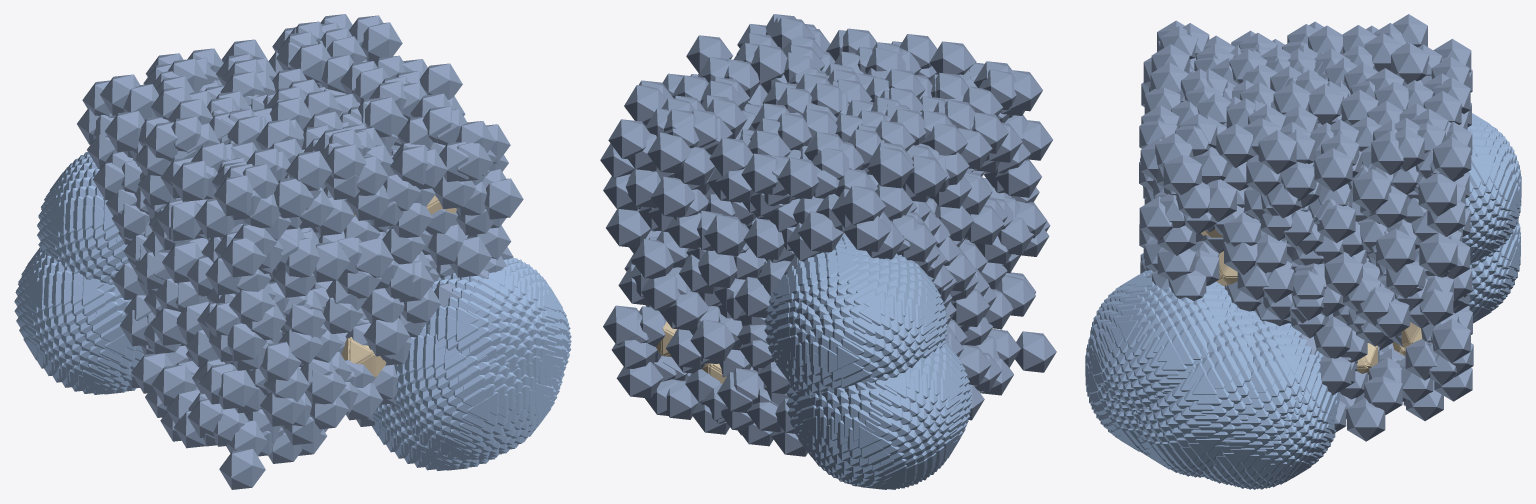
File: Cosmic_Web_Pointcloud.glb
3 renders of one model, left to right at view 1: azimuth 30°, elevation 25°; view 2: azimuth 150°, elevation 25°; view 3: azimuth 270°, elevation 25°, orthographic. The views are drawn at different scales.
Visible parts, largest first — view 1: Star_1094, Star_242, Star_543, Star_1362, Star_864, Star_905, Star_654, Star_24, Star_382, Star_477, Star_886, Star_391 (+90 smaller); view 2: Star_162, Star_834, Star_830, Star_553, Star_87, Star_1094, Star_649, Star_47, Star_787, Star_424, Star_852, Star_24 (+102 smaller); view 3: Star_47, Star_1323, Star_652, Star_608, Star_1392, Star_316, Star_773, Star_936, Star_284, Star_244, Star_147, Star_878 (+88 smaller).
Boxes of the visible parts, x1,y1,x2,y2 form: Star_1094: [219, 448, 265, 489]; Star_242: [220, 238, 266, 277]; Star_543: [363, 317, 409, 356]; Star_1362: [285, 151, 332, 190]; Star_864: [170, 161, 208, 201]; Star_905: [213, 175, 253, 216]; Star_654: [484, 178, 523, 219]; Star_24: [105, 111, 144, 152]; Star_382: [259, 342, 301, 382]; Star_477: [218, 369, 256, 409]; Star_886: [274, 178, 313, 218]; Star_391: [361, 22, 402, 62]; Star_162: [867, 147, 913, 188]; Star_834: [704, 215, 747, 256]; Star_830: [690, 319, 735, 360]; Star_553: [777, 157, 819, 199]; Star_87: [650, 176, 694, 217]; Star_1094: [1015, 331, 1056, 372]; Star_649: [839, 185, 885, 225]; Star_47: [606, 208, 651, 248]; Star_787: [647, 132, 691, 173]; Star_424: [797, 211, 843, 252]; Star_852: [631, 239, 673, 278]; Star_24: [905, 155, 947, 196]; Star_47: [1419, 233, 1457, 276]; Star_1323: [1314, 147, 1352, 191]; Star_652: [1418, 173, 1456, 216]; Star_608: [1377, 228, 1415, 272]; Star_1392: [1258, 130, 1296, 174]; Star_316: [1433, 137, 1471, 180]; Star_773: [1432, 319, 1470, 363]; Star_936: [1324, 252, 1362, 296]; Star_284: [1353, 169, 1391, 213]; Star_244: [1347, 398, 1385, 441]; Star_147: [1216, 123, 1254, 167]; Star_878: [1163, 155, 1201, 194].
Bounding box in the file's own units: 19.78 × 17.23 × 19.41.
